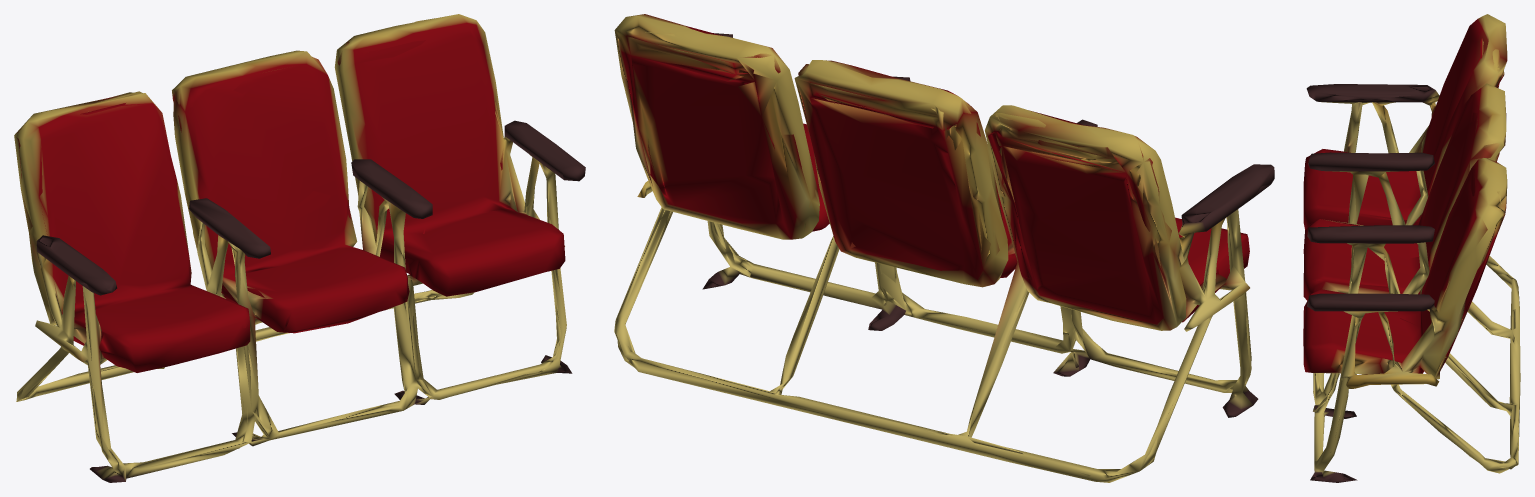
The model's file is gen3d-theater-seat-lod0.glb.
3 views of the same model, side by side, from view 1: azimuth 30°, elevation 25°; view 2: azimuth 150°, elevation 25°; view 3: azimuth 270°, elevation 25° (orthographic). The views are drawn at different scales.
Visible parts, largest first — view 1: part_0; view 2: part_0; view 3: part_0.
Boxes of the visible parts, left/top/right/bottom form: part_0: left=14, top=14, right=585, bottom=482; part_0: left=614, top=14, right=1274, bottom=482; part_0: left=1303, top=14, right=1520, bottom=482.
Bounding box in the file's own units: 1.75 × 0.9996 × 0.729.
